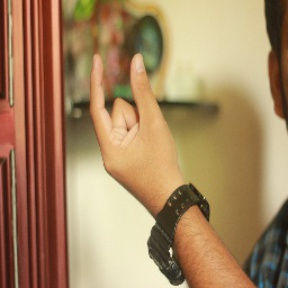U: (75, 51, 180, 184)
